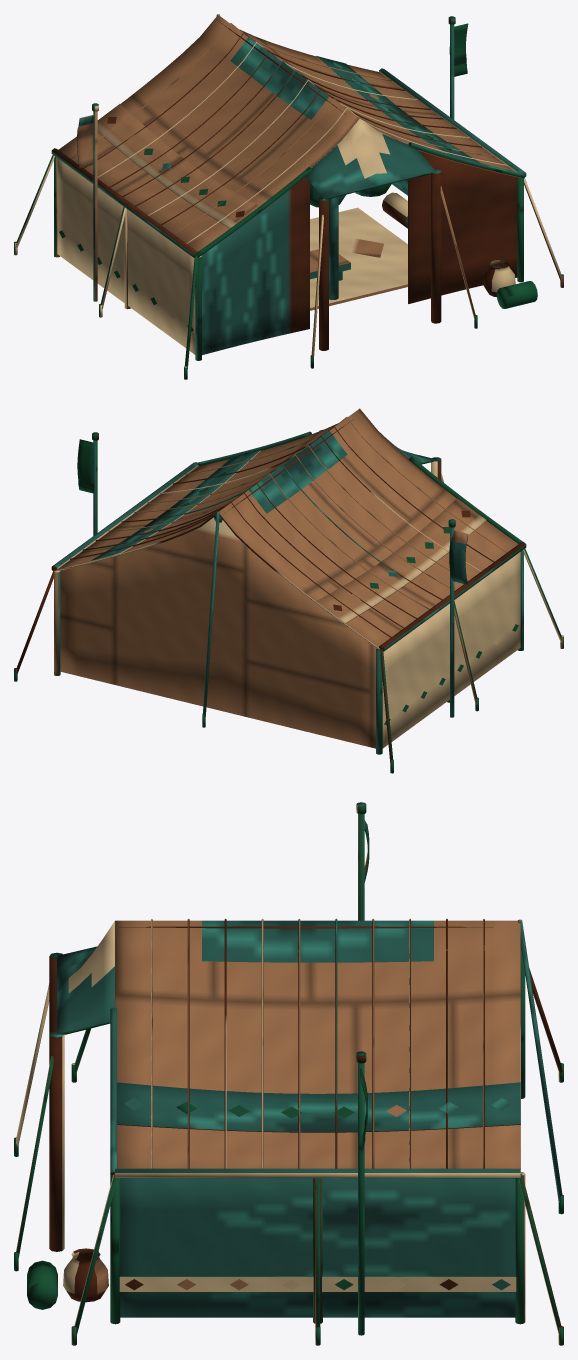
3 renders of one model, top to bottom at view 1: azimuth 30°, elevation 25°; view 2: azimuth 150°, elevation 25°; view 3: azimuth 270°, elevation 25°, orthographic. The views are drawn at different scales.
Parts seen in each view (by area): view 1: garrison_part_0002, garrison_part_0003, garrison_part_0001, garrison_part_0004, garrison_part_0000; view 2: garrison_part_0003, garrison_part_0002, garrison_part_0004, garrison_part_0001; view 3: garrison_part_0002, garrison_part_0003, garrison_part_0001, garrison_part_0004, garrison_part_0000.
Part boxes in pixels (x1,y1,x2,y2): garrison_part_0002: (15, 14, 561, 368); garrison_part_0003: (57, 142, 525, 355); garrison_part_0001: (54, 20, 523, 360); garrison_part_0004: (77, 16, 537, 308); garrison_part_0000: (14, 207, 563, 379); garrison_part_0003: (59, 431, 522, 748); garrison_part_0002: (16, 408, 562, 762); garrison_part_0004: (77, 432, 468, 717); garrison_part_0001: (54, 419, 523, 754); garrison_part_0002: (16, 918, 562, 1334); garrison_part_0003: (110, 1007, 516, 1317); garrison_part_0001: (49, 926, 525, 1324); garrison_part_0004: (27, 802, 369, 1335); garrison_part_0000: (14, 1063, 563, 1345).
Size of the model in its own units: 664 by 336 by 569.
